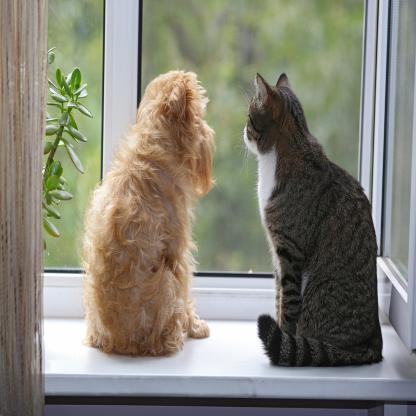cat: (241, 67, 390, 371)
dog: (75, 66, 217, 358)
